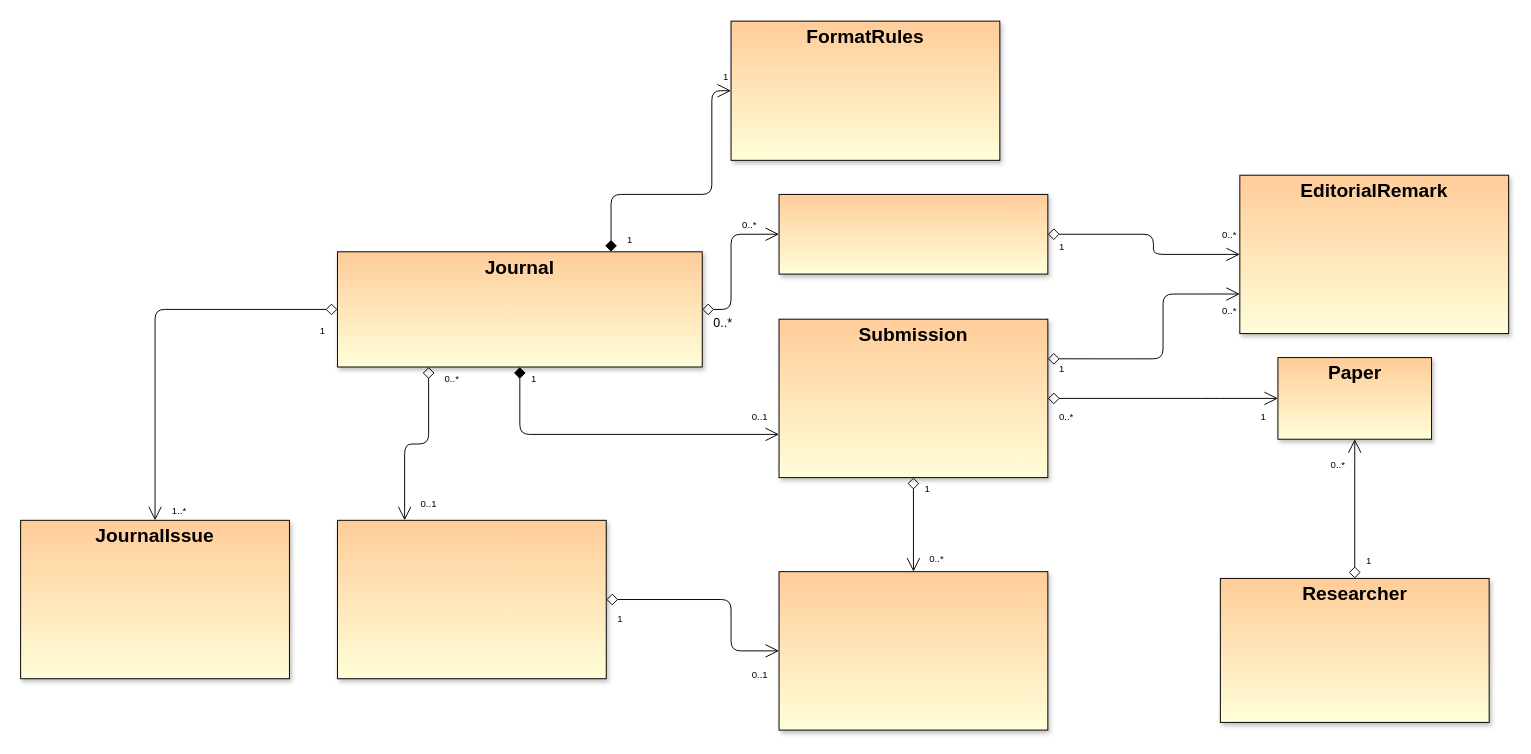
The diagram is 1531 pixels wide and 754 high, and some of its shapes have lost their labels. The centre of each missing label's shape, as x and y in pixels:
"Editorial" belongs at point 914,235.
"Reviewer" belongs at point 472,600.
"ReviewerRemark" belongs at point 914,652.
